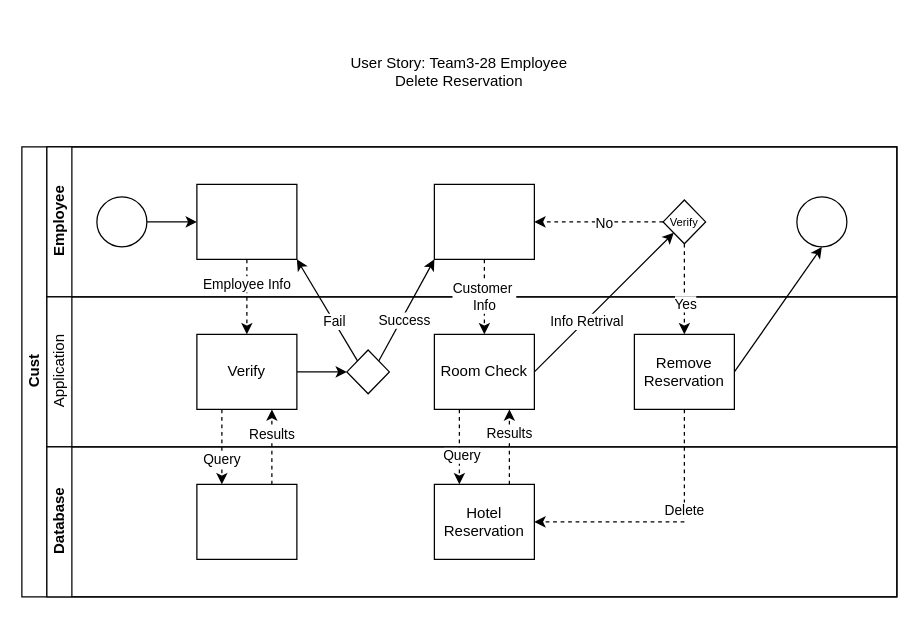
The diagram is 919 pixels wide and 619 high, and some of its shapes have lost their labels. The centre of each missing label's shape, as x and y in pixels:
"Employees" goes at [246,521].
"login" goes at [121,221].
"Reservation Deleted" goes at [821,221].
"Reservations View" goes at [483,221].
"Sign In" goes at [246,221].
